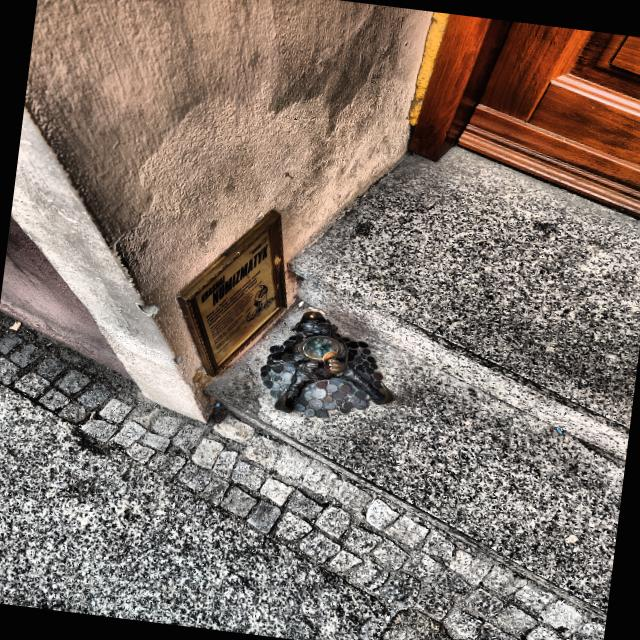Numizmatyk: (260, 311, 393, 417)
